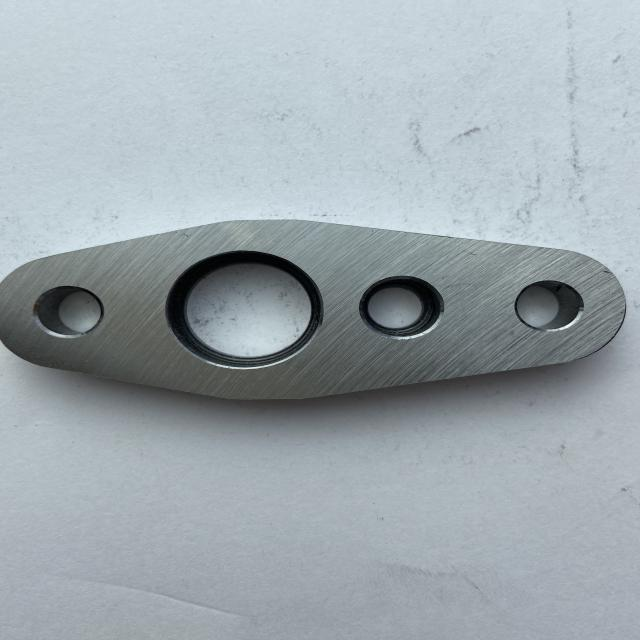lines: (177, 232, 196, 242), (461, 248, 478, 257), (600, 268, 612, 277)
